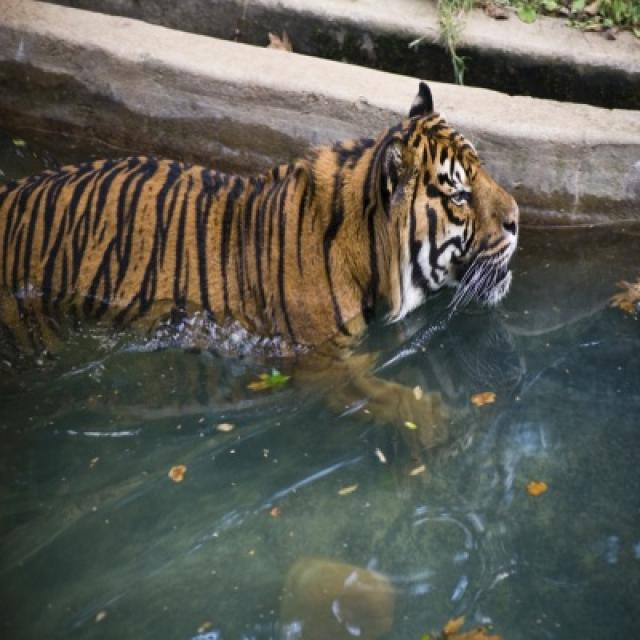Tiger: (0, 88, 525, 369)
